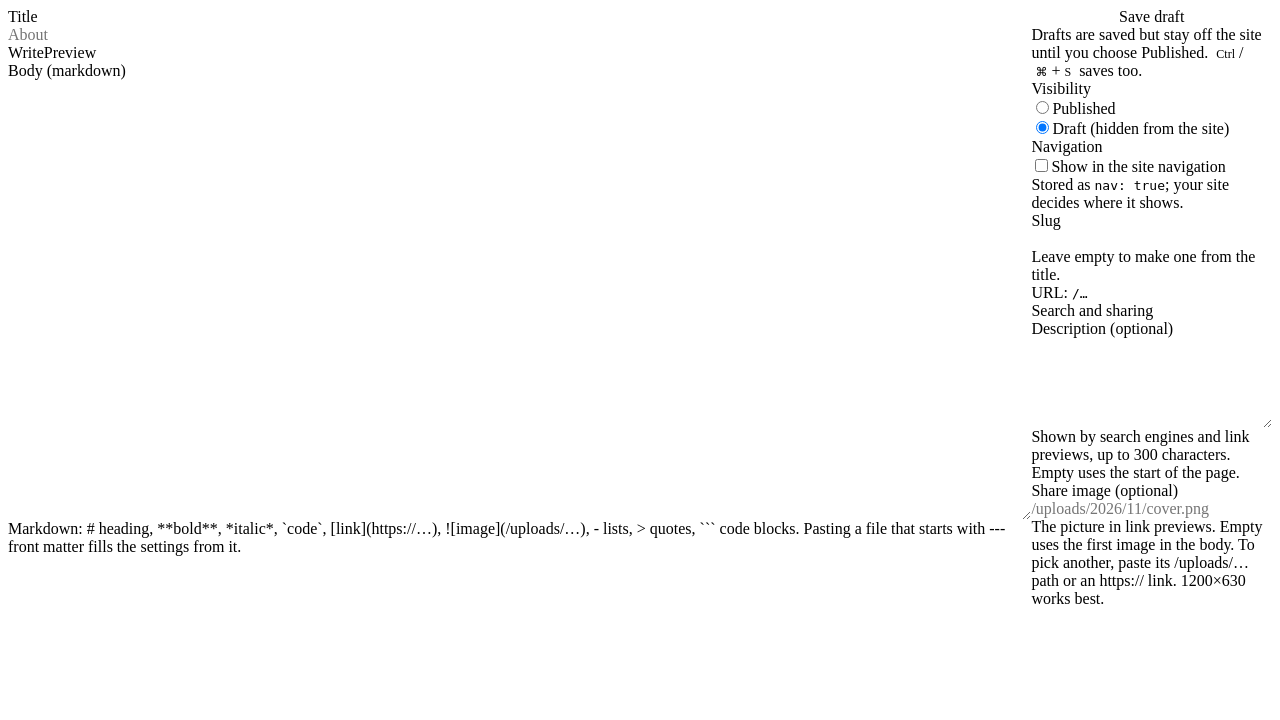
Test: the save button says whether a save publishes › a new page starts as a draft, and choosing Published makes the button publish
Expected: the button "Save draft" is shown, [1031,8,1272,26]
Expected: the text "stay off the site until you choose Published" is shown, [1031,26,1262,61]
Step 1. Click the radio button labelled "Published" → [1043, 108], box [1036,101,1049,114]
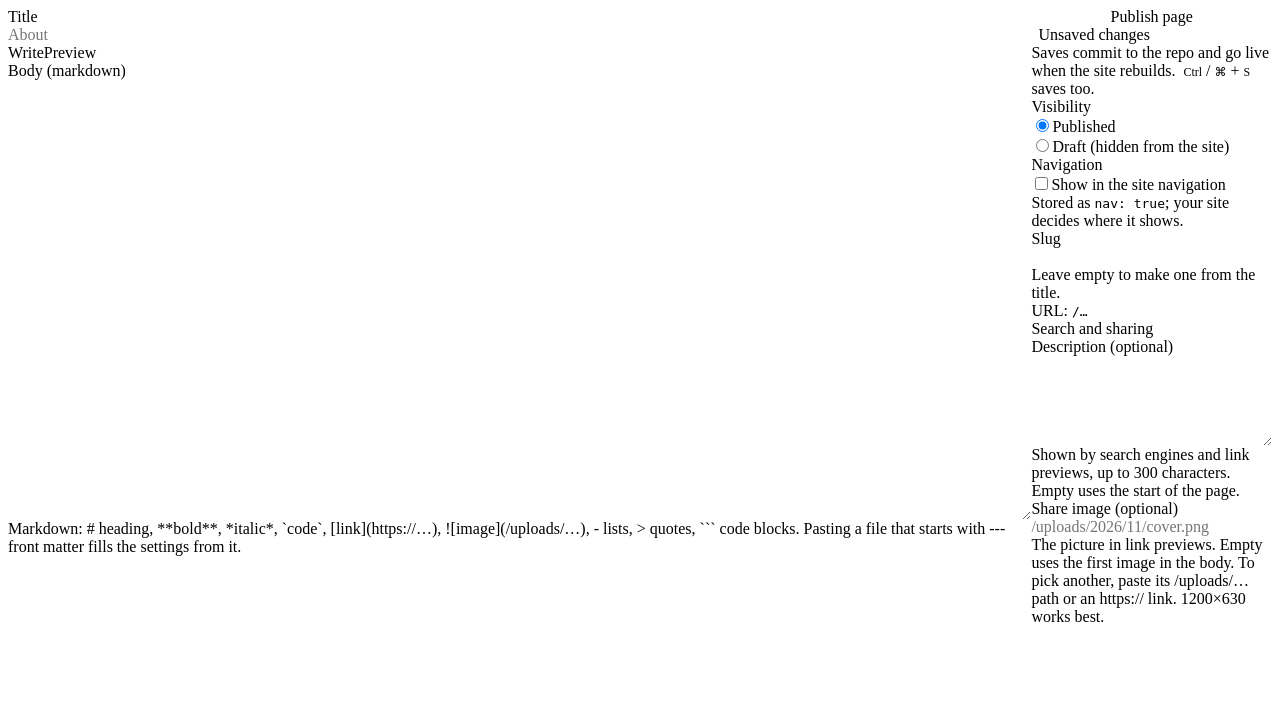
Expected: the button "Publish page" is shown, [1031,8,1272,26]
